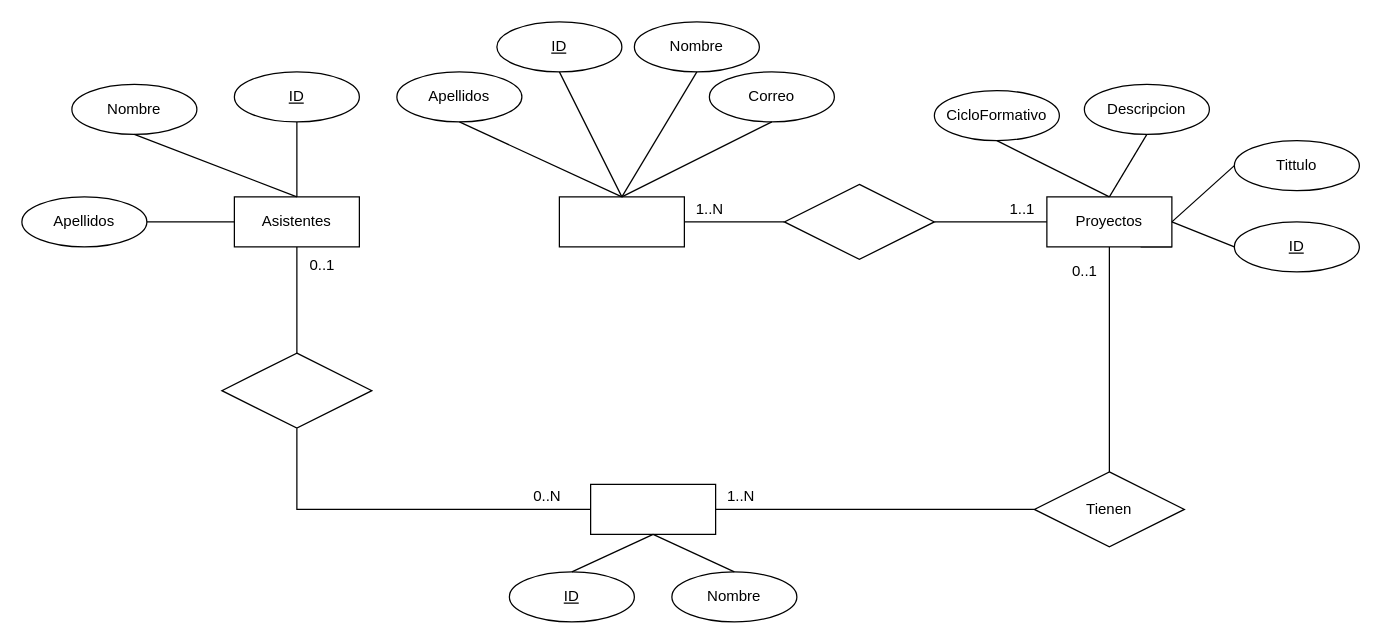
Some shapes in this 1381 by 644 pixel diagram are drawn without their labels. Here are the shapes that lost their labels. From the top down, the centre of each, then its label:
At point (621, 221): "Alumnos".
At point (858, 221): "Pertenecen".
At point (296, 390): "Votan".
At point (652, 508): "CategoriaVotos".
